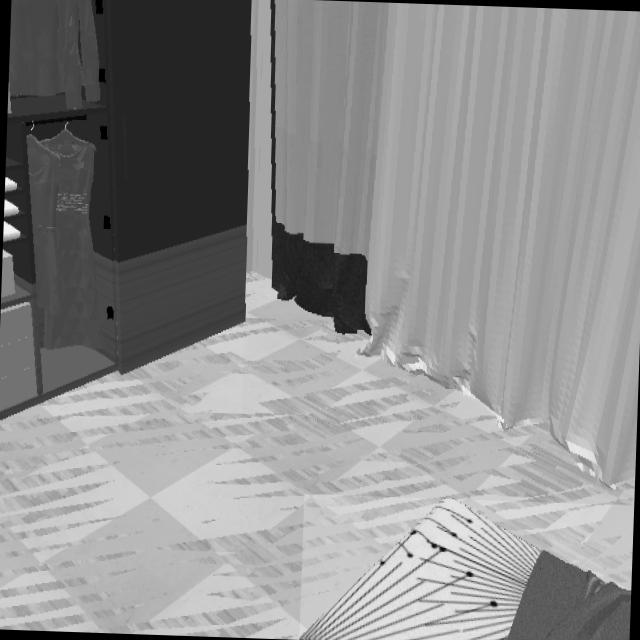bed: (300, 499, 630, 640)
wardrobe: (0, 0, 252, 414)
